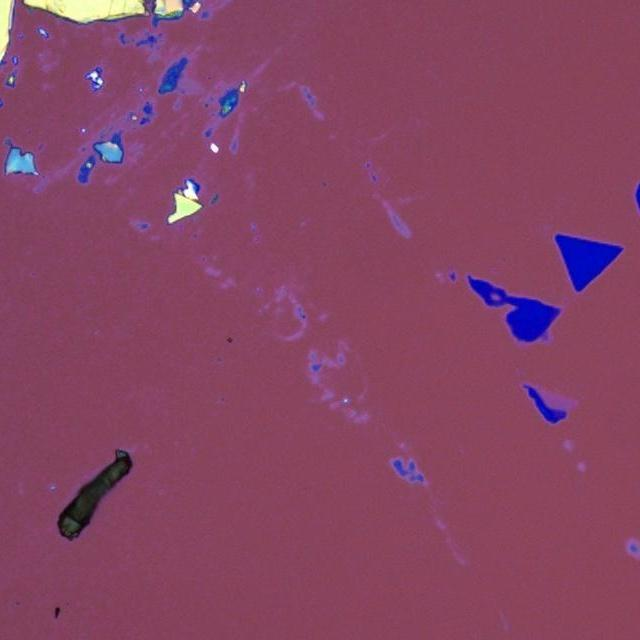monolayer-eWW4: (538, 390, 578, 412)
